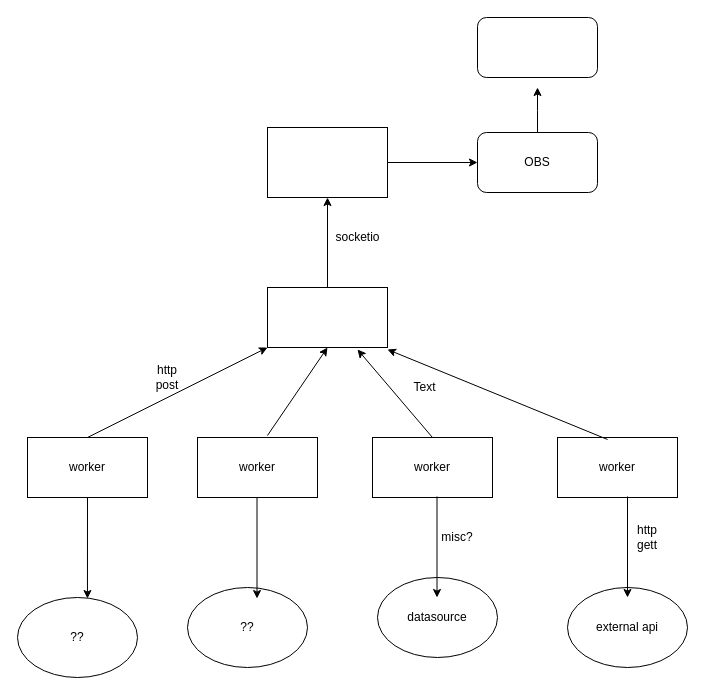
Image size: 705x695. Some labels were removed from this diagram. Here are the shapes that lost their labels. From the top down, the centre of each, then its label:
At point 537,47: "twitch".
At point 327,162: "frontend (client side)".
At point 327,317: "express".
